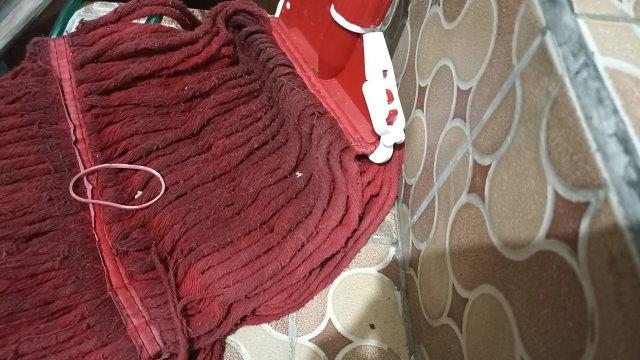karet: (69, 163, 166, 209)
